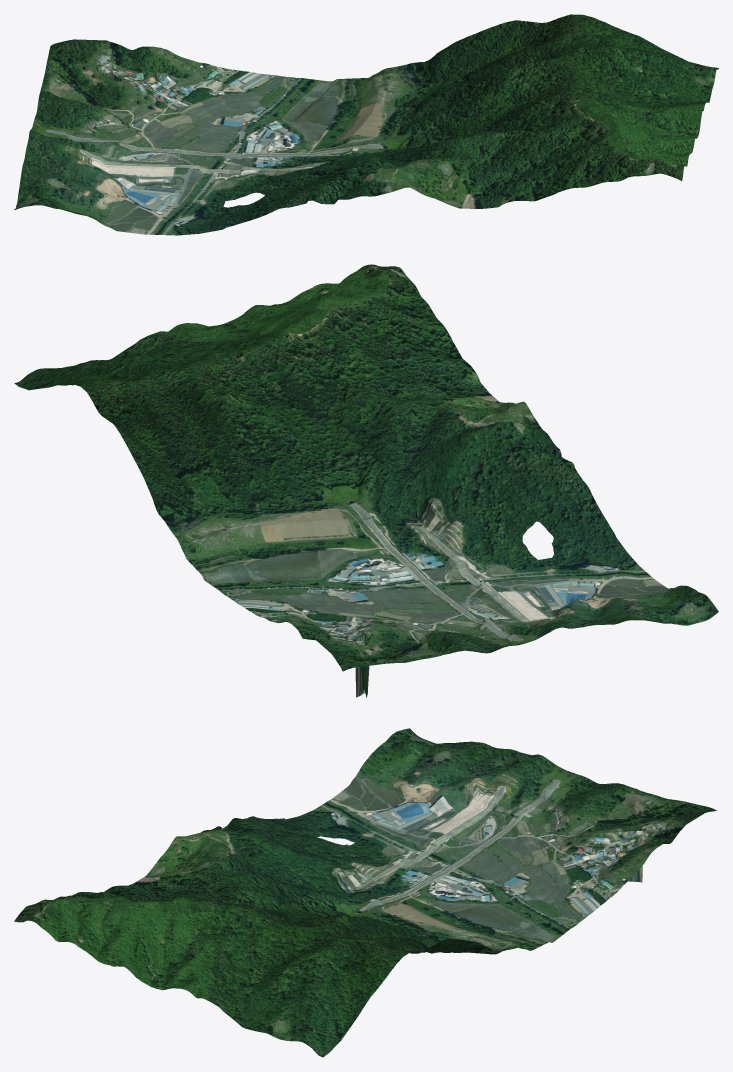
File: ground_수정.fbx
The picture shows the model from 3 angles, top to bottom: view 1: azimuth 30°, elevation 25°; view 2: azimuth 150°, elevation 25°; view 3: azimuth 270°, elevation 25°; orthographic projection. The views are drawn at different scales.
Parts seen in each view (by area): view 1: Mesh 4, Mesh 2, Mesh 1, Mesh 3; view 2: Mesh 4, Mesh 2, Mesh 1, Mesh 3; view 3: Mesh 4, Mesh 2, Mesh 1, Mesh 3.
Part boxes in pixels (<box>): Mesh 4: <box>300,14,718,208</box>; Mesh 2: <box>14,109,478,235</box>; Mesh 1: <box>26,39,299,152</box>; Mesh 3: <box>259,65,402,109</box>; Mesh 4: <box>14,264,489,578</box>; Mesh 2: <box>287,394,718,627</box>; Mesh 1: <box>241,578,595,698</box>; Mesh 3: <box>169,528,285,605</box>; Mesh 4: <box>14,862,509,1057</box>; Mesh 2: <box>135,728,509,916</box>; Mesh 1: <box>509,749,716,916</box>; Mesh 3: <box>509,910,595,950</box>.
Size of the model in its own units: 1441 by 1266 by 231.
4 materials, 4 textured.
